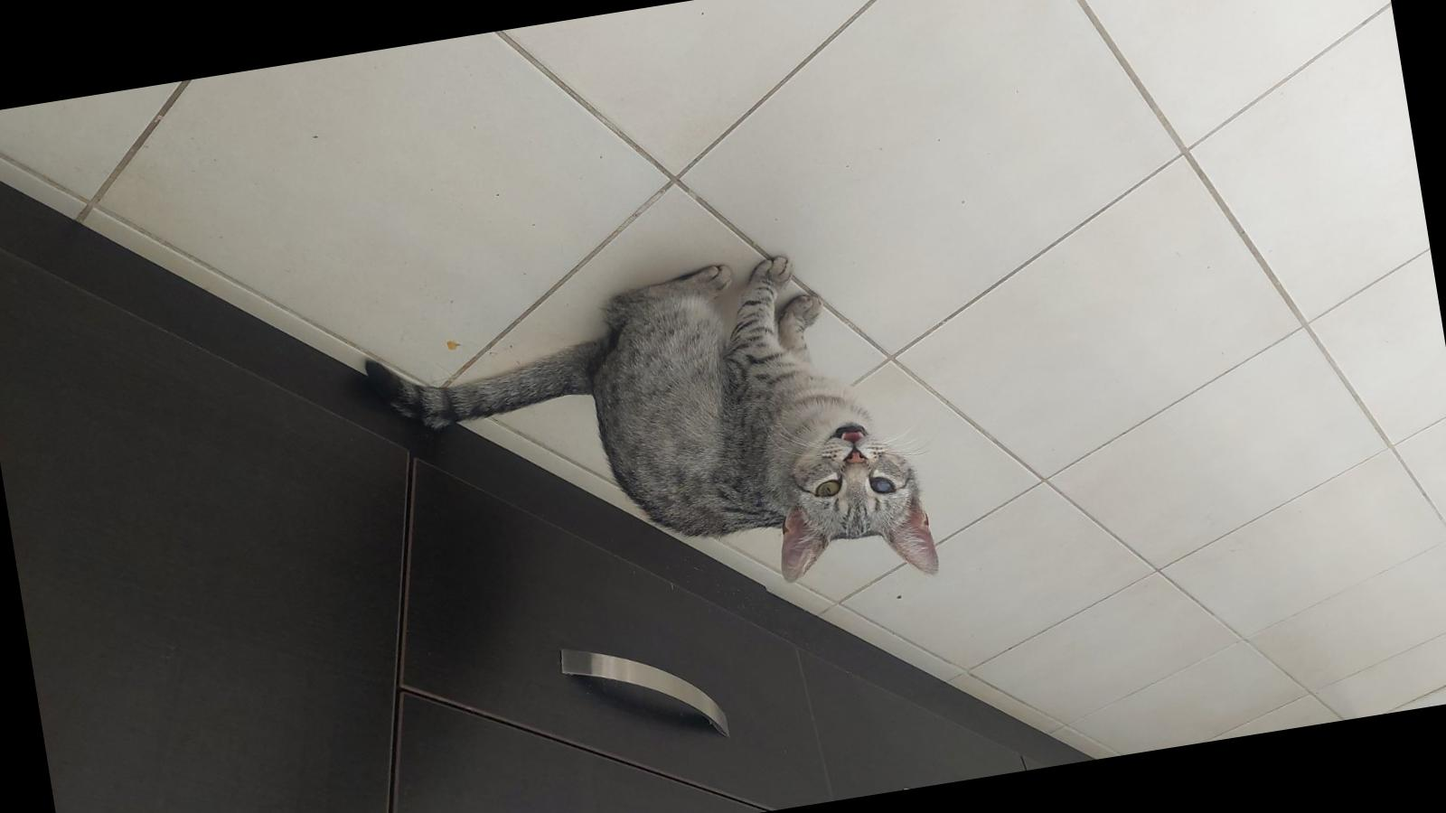macka: (357, 235, 939, 659)
